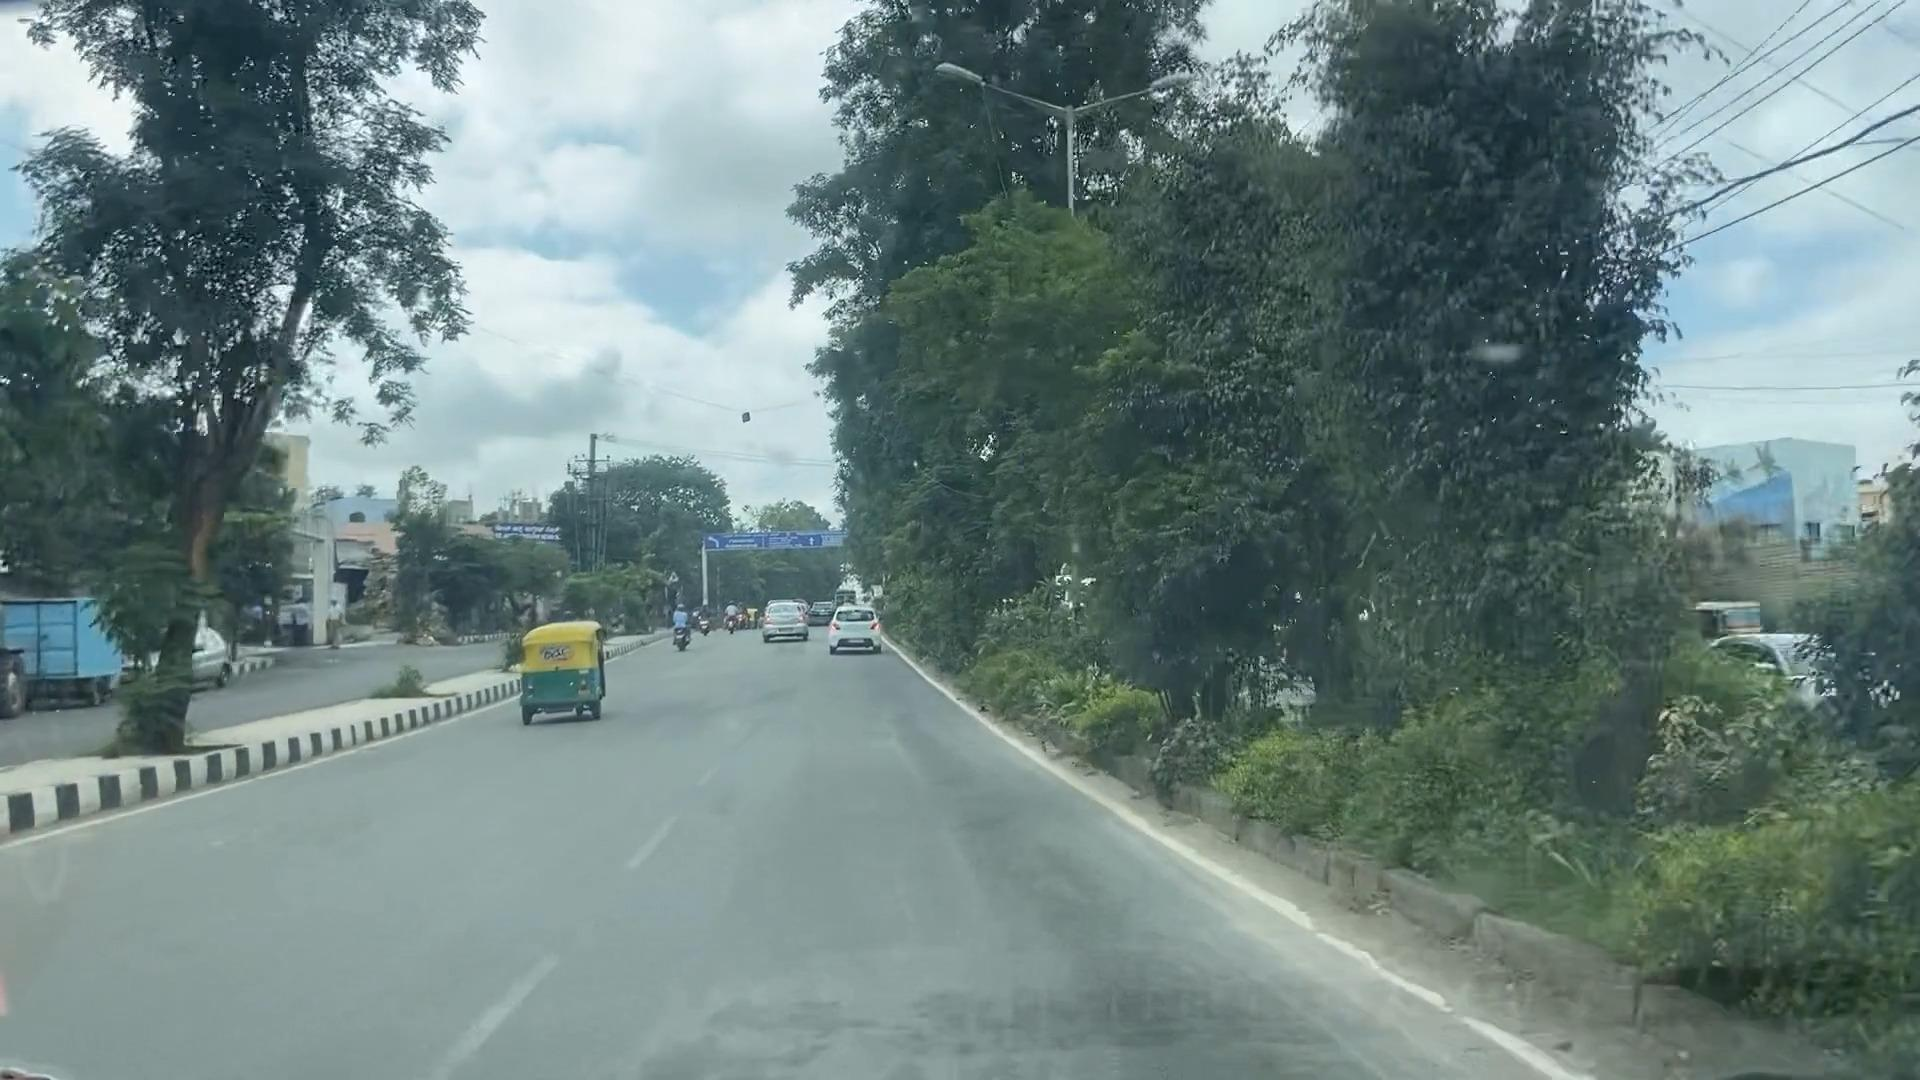LMV: (522, 626, 598, 711), (832, 600, 884, 661), (760, 600, 812, 642)
